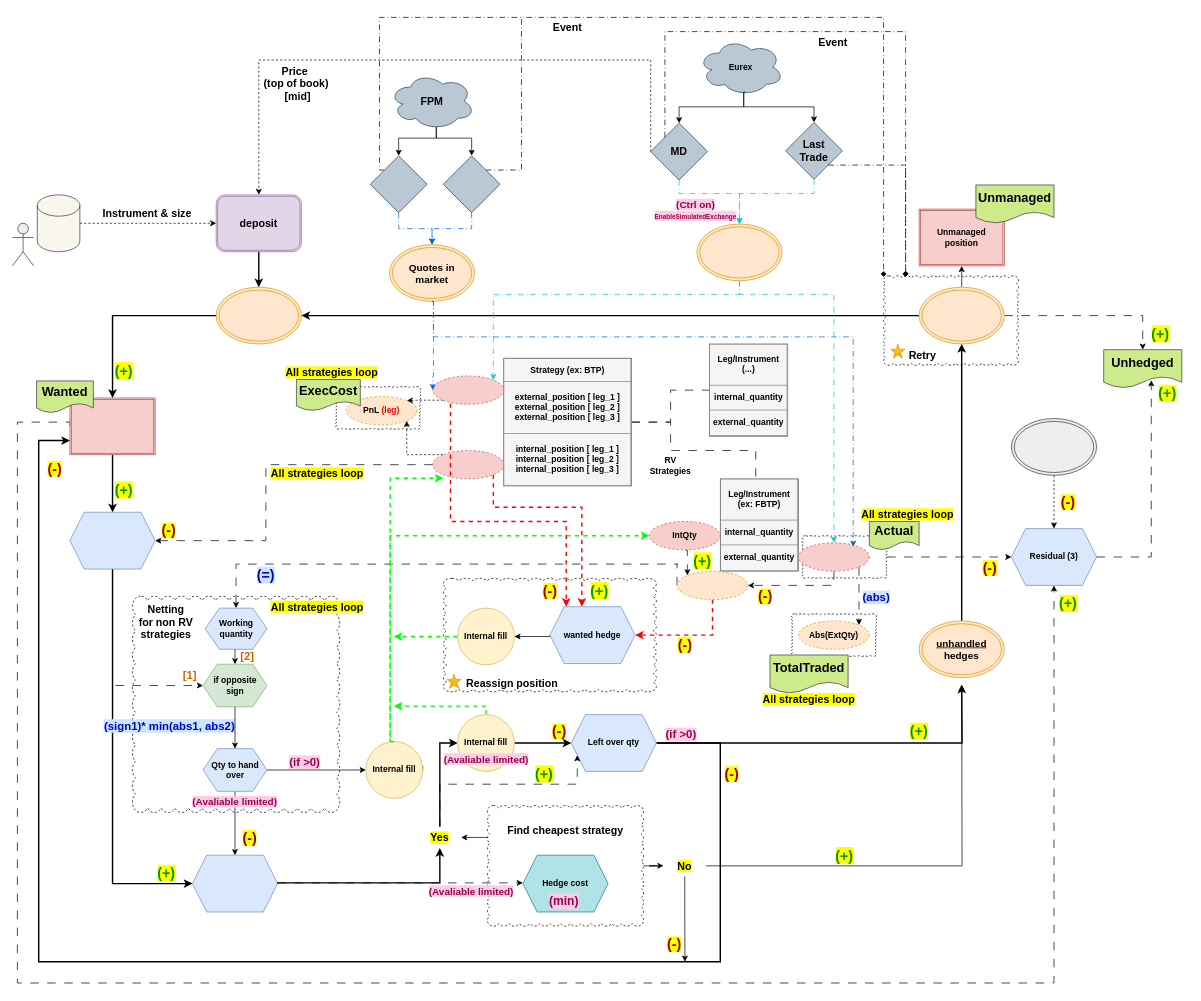
Some shapes in this 1201 by 1001 pixel diagram are drawn without their labels. The centre of each missing label's shape, as x and y in pixels:
Actor: pixel 23 244
ExtPos: pixel 468 389
ExtQty: pixel 833 556
IntPos: pixel 468 464
ixDeposit: pixel 58 223
Order: pixel 398 184
proxy pos: pixel 1054 446
Residual (1): pixel 112 540
Residual (2): pixel 235 883
Residual (leg): pixel 712 585
Simulated orders: pixel 739 252
Trade: pixel 471 184
unmanaged hedges: pixel 961 315
wanted hedges: pixel 258 315
Wanted position: pixel 112 426
